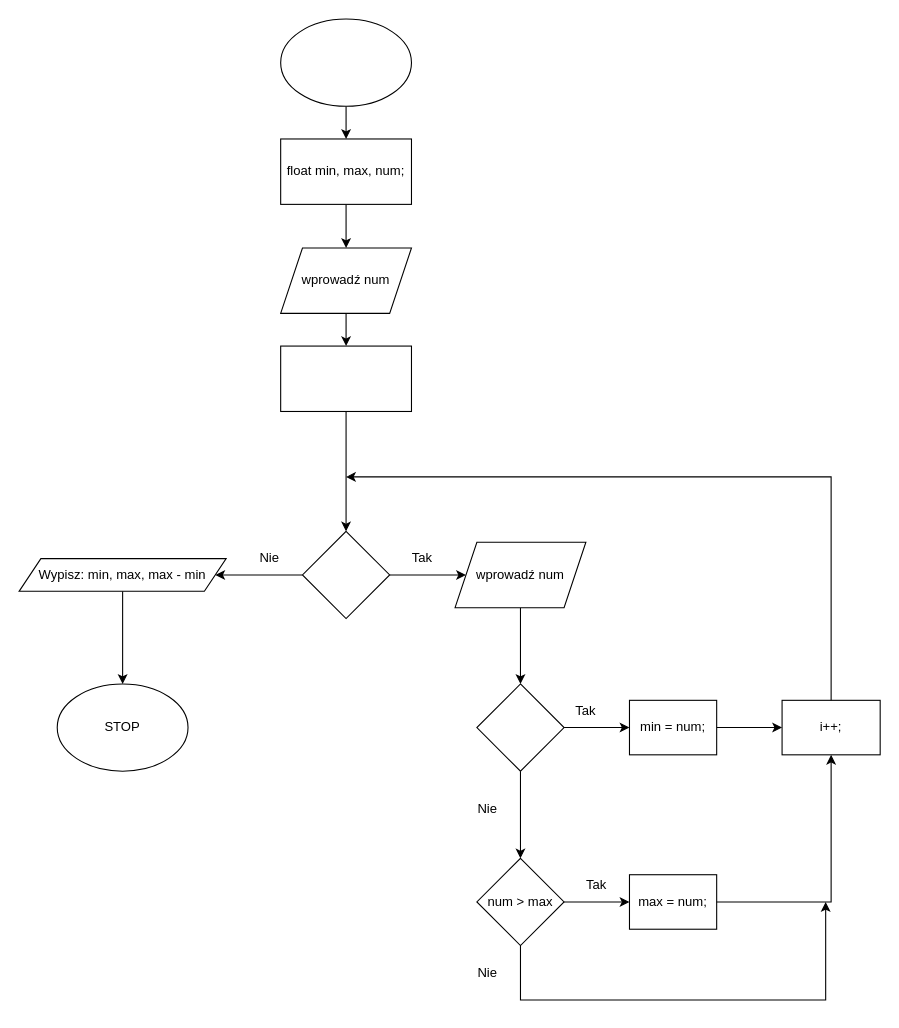
Some shapes in this 899 by 1028 pixel diagram are drawn without their labels. Here are the shapes that lost their labels. From the top down, the centre of each, then its label:
At point 345,62: "START".
At point 345,378: "max = min = num; i = 2;".
At point 345,574: "i <= 5".
At point 520,727: "num < min".
